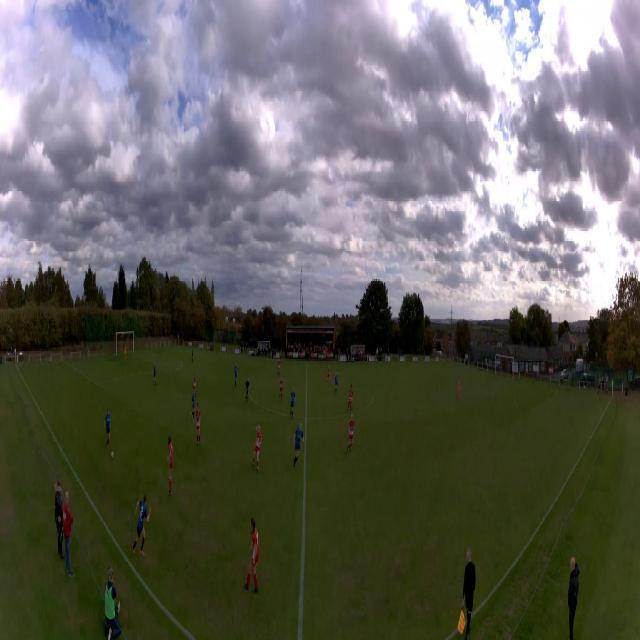ball: (111, 451, 114, 459)
player: (131, 492, 151, 558), (243, 517, 260, 594), (294, 421, 305, 467), (252, 424, 262, 474), (167, 435, 174, 496), (345, 413, 355, 455), (104, 409, 112, 451), (196, 402, 202, 447), (190, 388, 196, 424), (290, 386, 296, 421), (347, 384, 354, 413), (245, 376, 250, 404), (334, 373, 340, 395), (192, 372, 196, 400), (279, 377, 283, 402), (153, 362, 157, 387), (326, 366, 331, 384), (235, 361, 238, 389), (457, 379, 460, 400), (278, 358, 281, 378), (280, 349, 283, 364), (124, 343, 126, 360), (192, 348, 194, 363)
